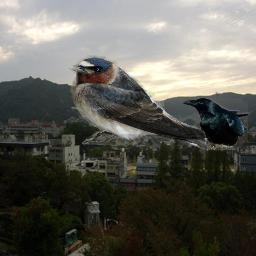Crow: (183, 98, 248, 150)
Swallow: (67, 55, 213, 151)
